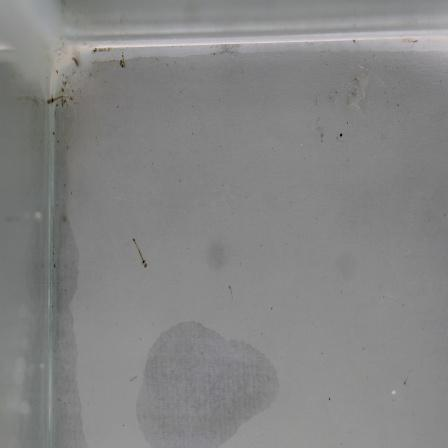Jentik-Nyamuk: (128, 231, 152, 273), (45, 92, 79, 108), (114, 50, 127, 73)
